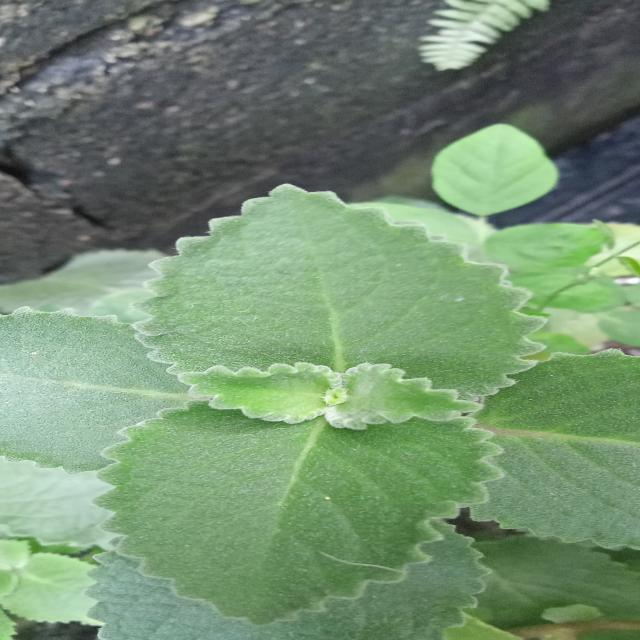Oregano: (110, 169, 564, 569)
